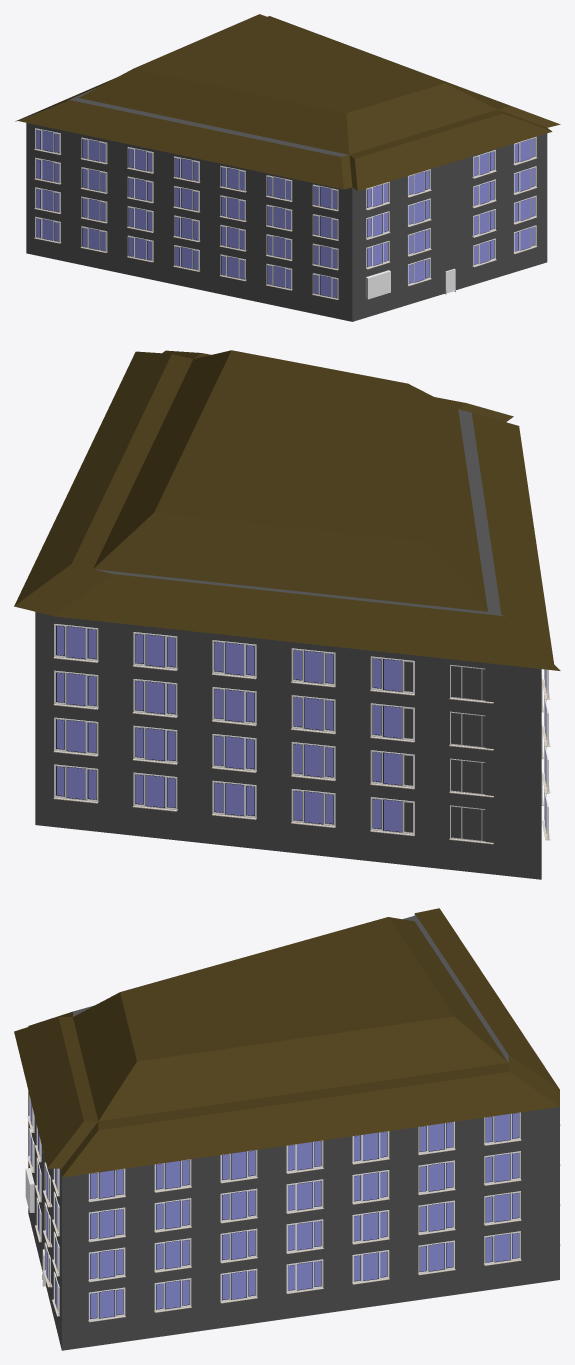
The model's file is WestralSquareShop1.fbx.
3 renders of one model, top to bottom at view 1: azimuth 30°, elevation 25°; view 2: azimuth 150°, elevation 25°; view 3: azimuth 270°, elevation 25°, orthographic. The views are drawn at different scales.
Visible parts, largest first — view 1: Plane.002, Window.004, Window.001, Window, CTRL_Hole.001; view 2: Plane.002, Window.003, Window.004; view 3: Plane.002, Window.002, Window.001, Window.
Part boxes in pixels (bbox=[...]): Plane.002: bbox=[15, 14, 560, 321]; Window.004: bbox=[34, 128, 338, 299]; Window.001: bbox=[472, 136, 537, 267]; Window: bbox=[366, 169, 431, 298]; CTRL_Hole.001: bbox=[365, 270, 390, 299]; Plane.002: bbox=[14, 350, 560, 879]; Window.003: bbox=[53, 624, 493, 844]; Window.004: bbox=[541, 669, 550, 840]; Plane.002: bbox=[14, 908, 559, 1350]; Window.002: bbox=[88, 1112, 521, 1322]; Window.001: bbox=[43, 1151, 59, 1316]; Window: bbox=[27, 1095, 41, 1242].
Bounding box in the file's own units: 41.23 × 17.19 × 35.38.
